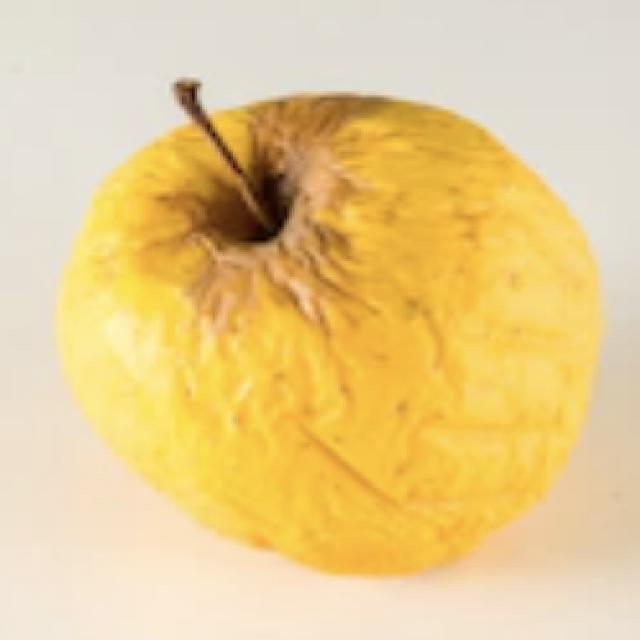Rotten: (51, 92, 602, 580)
